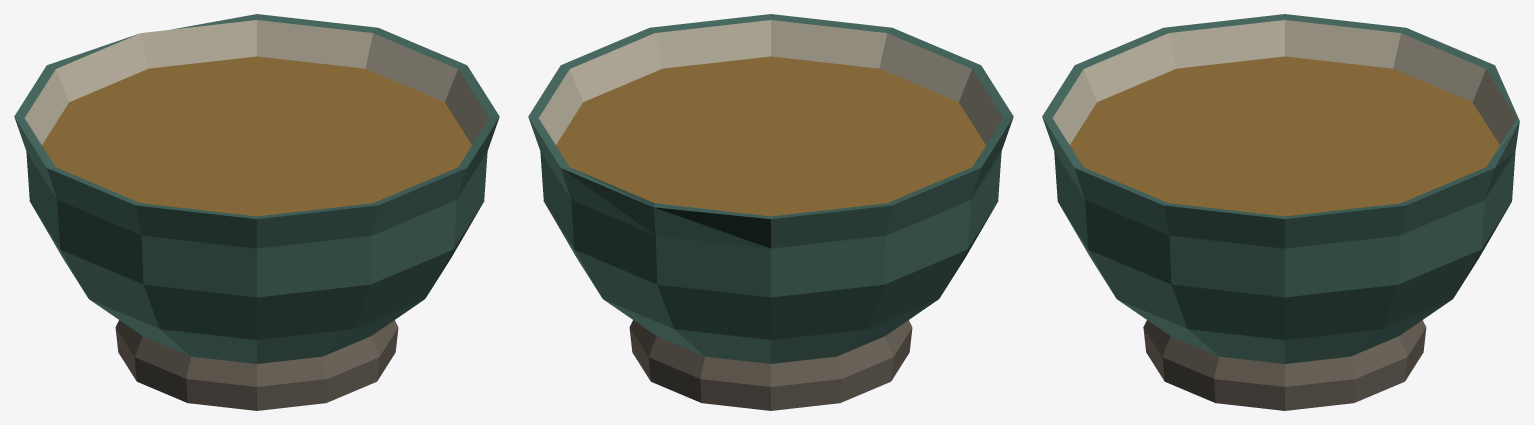
File: foghorn_buoy.glb
3 renders of one model, left to right at view 1: azimuth 30°, elevation 25°; view 2: azimuth 150°, elevation 25°; view 3: azimuth 270°, elevation 25°, orthographic.
Parts seen in each view (by area): view 1: 702-soup-bowl; view 2: 702-soup-bowl; view 3: 702-soup-bowl.
Boxes of the visible parts, bbox=[...] form: 702-soup-bowl: bbox=[14, 14, 499, 410]; 702-soup-bowl: bbox=[528, 14, 1013, 410]; 702-soup-bowl: bbox=[1042, 14, 1519, 410].
Size of the model in its own units: 0.14 by 0.075 by 0.1378.
